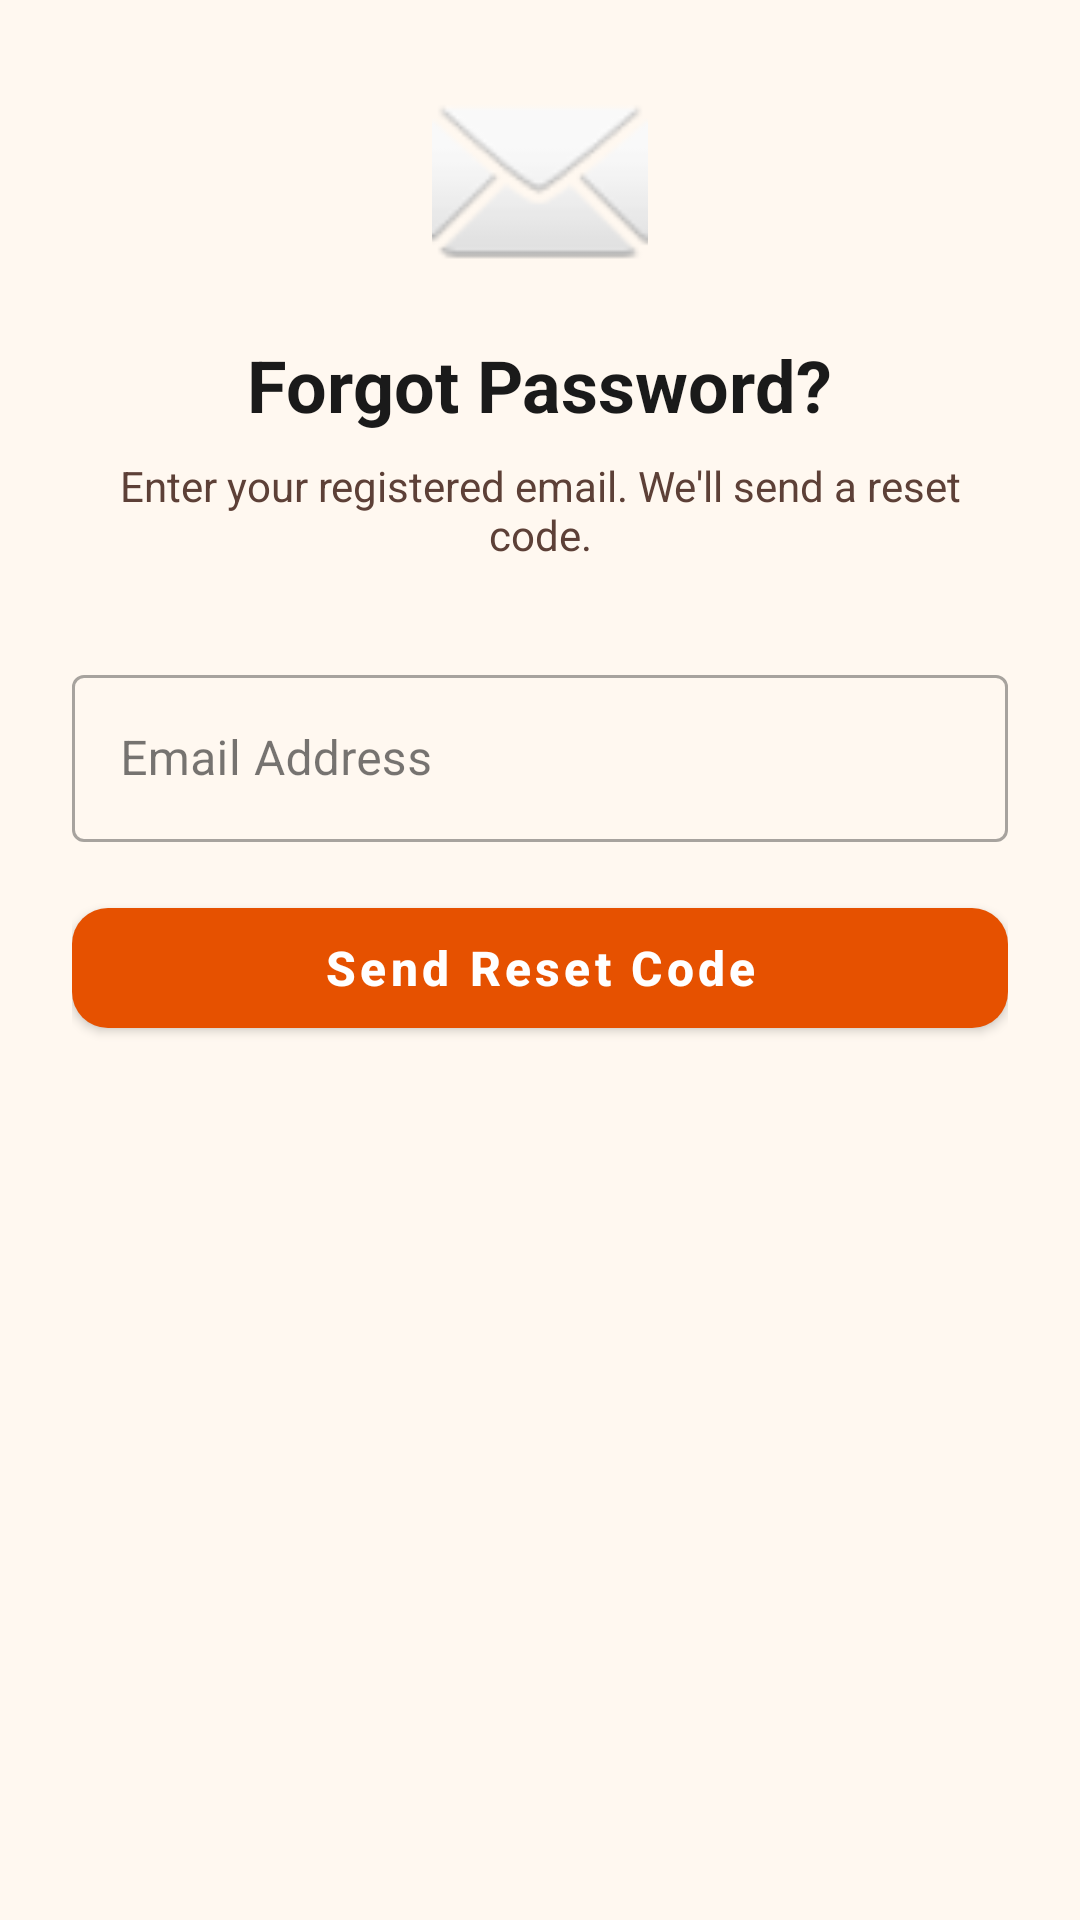

Icon click points for this 1080×1920 phone screenshot, format point (x, y):
email: point (540, 183)
